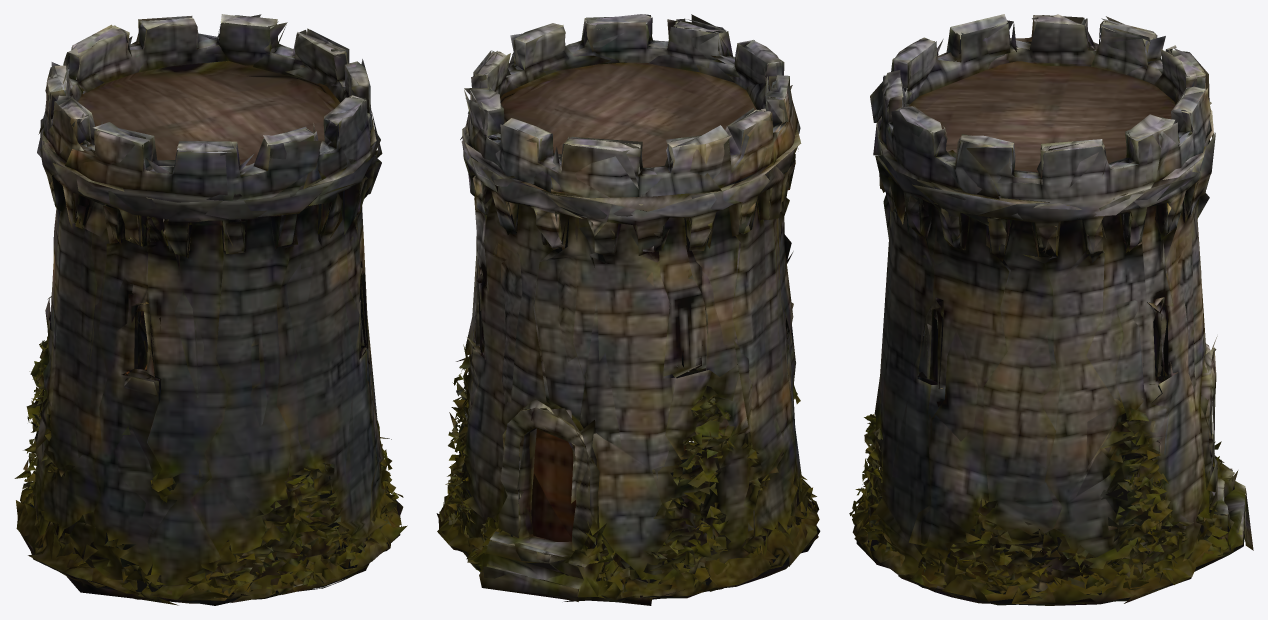
The model's file is tower.lod1.glb.
3 renders of one model, left to right at view 1: azimuth 30°, elevation 25°; view 2: azimuth 150°, elevation 25°; view 3: azimuth 270°, elevation 25°, orthographic.
Visible parts, largest first — view 1: terrain-tower; view 2: terrain-tower; view 3: terrain-tower.
Boxes of the visible parts, bbox=[...] form: terrain-tower: bbox=[14, 14, 407, 605]; terrain-tower: bbox=[436, 14, 820, 605]; terrain-tower: bbox=[849, 14, 1253, 605].
Bounding box in the file's own units: 1.05 × 1.36 × 1.08.
1 material, 1 textured.
